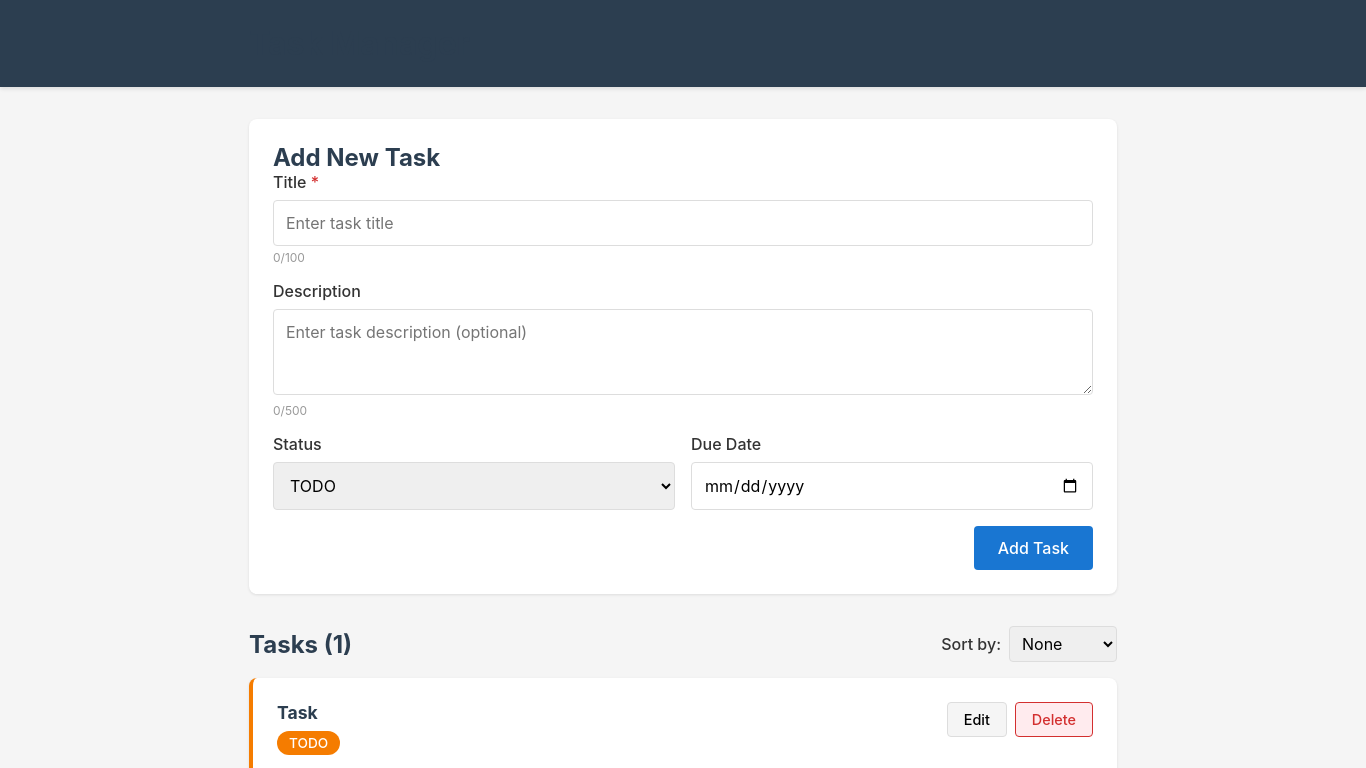
Test: App Component › Cancel Edit › should cancel edit mode when cancel button is clicked
The width and height of the screenshot is (1366, 768).
What coordinates should you click on to do the following:
click the button "Edit"
I would click on:
 (977, 720)
Its box is x1=947 y1=702 x2=1007 y2=737.
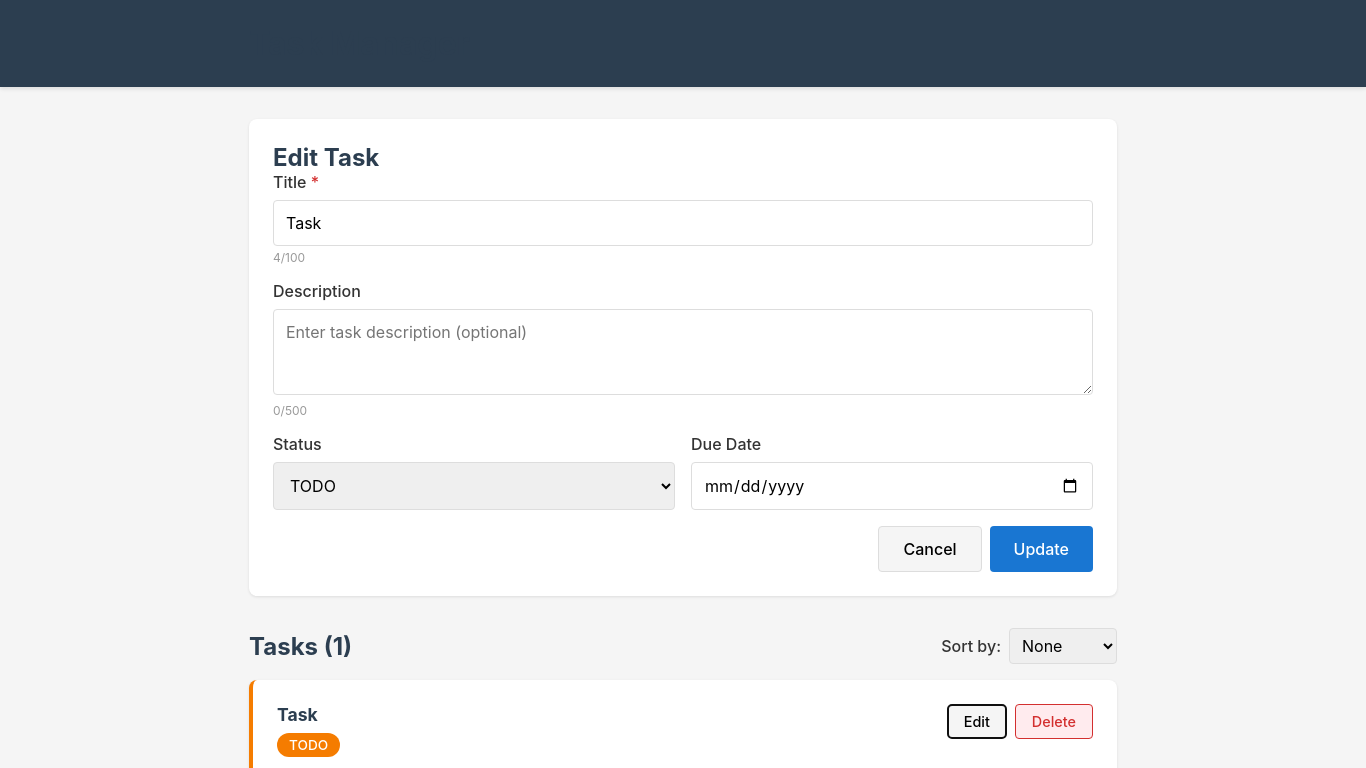
What coordinates should you click on to do the following:
click the button "Cancel"
I would click on:
 (930, 549)
Its box is x1=878 y1=526 x2=982 y2=572.
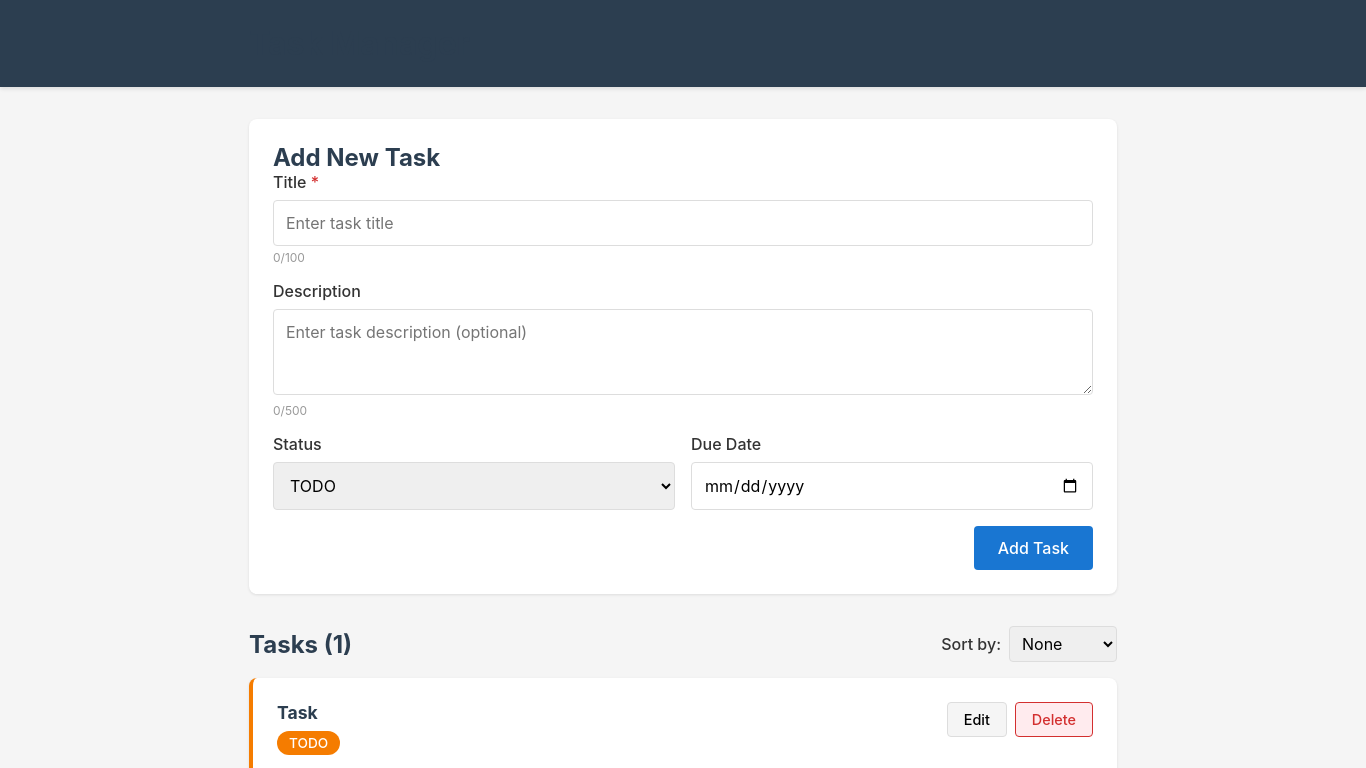
Expected: the heading "Add New Task" is shown, x1=273 y1=143 x2=440 y2=172
